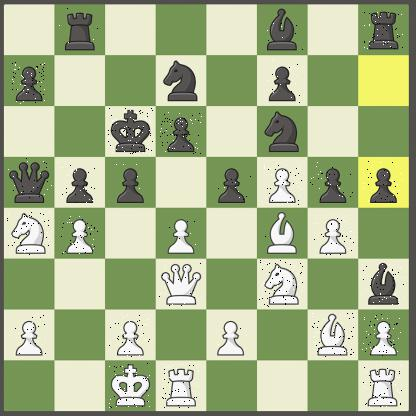Black Bishop: (362, 262, 406, 307), (261, 8, 305, 51)
Black Castle: (55, 5, 105, 53), (364, 9, 405, 53)
Black King: (108, 108, 154, 155)
Black Knight: (160, 57, 202, 103), (262, 110, 304, 153)
Black Pawn: (160, 112, 203, 155), (363, 161, 404, 205), (310, 162, 354, 202), (265, 58, 301, 104), (12, 62, 46, 105), (214, 167, 252, 205), (112, 164, 147, 205), (61, 165, 97, 204)
Black Queen: (7, 158, 53, 204)
White Bishop: (312, 312, 356, 358), (262, 211, 305, 256)
White King: (108, 363, 152, 409)
White Knight: (259, 260, 305, 308), (7, 212, 51, 256), (364, 365, 404, 410), (162, 364, 200, 409)
White Pawn: (109, 315, 152, 358), (362, 314, 402, 358), (314, 216, 355, 258), (212, 314, 249, 359), (264, 164, 303, 206), (60, 216, 100, 255), (163, 214, 200, 256), (13, 315, 47, 358)
White Queen: (158, 262, 203, 307)
